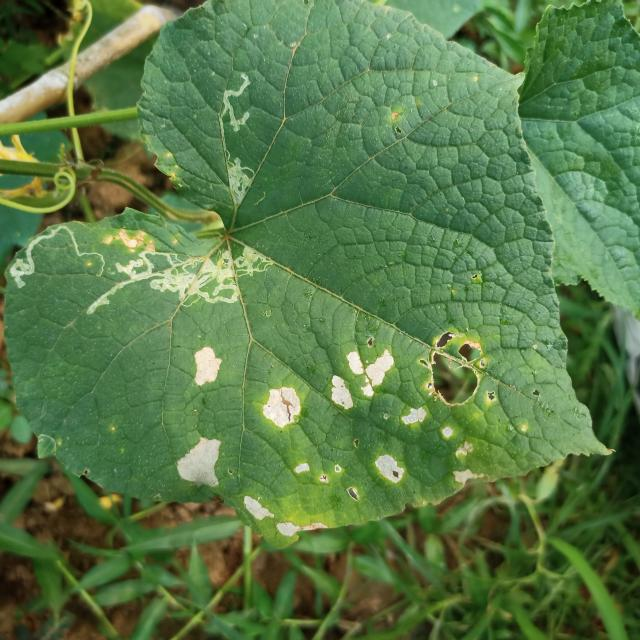disease_cucumber: (241, 321, 526, 543), (170, 340, 232, 498)
